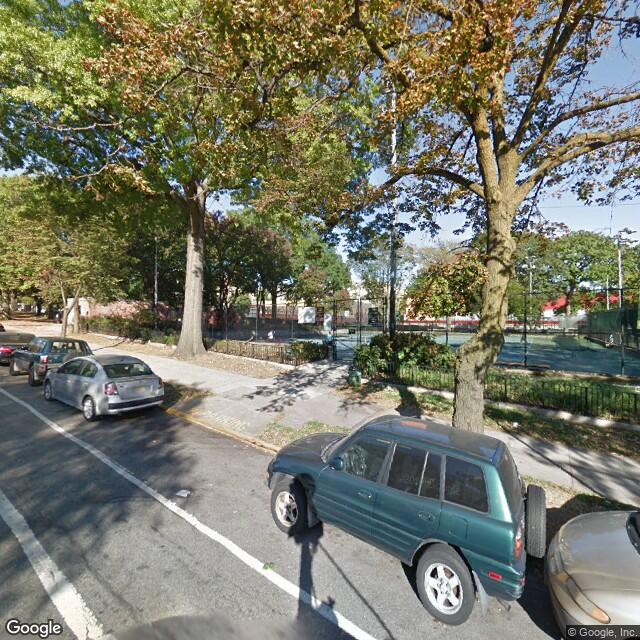litter: (171, 482, 197, 505), (507, 417, 523, 440)
